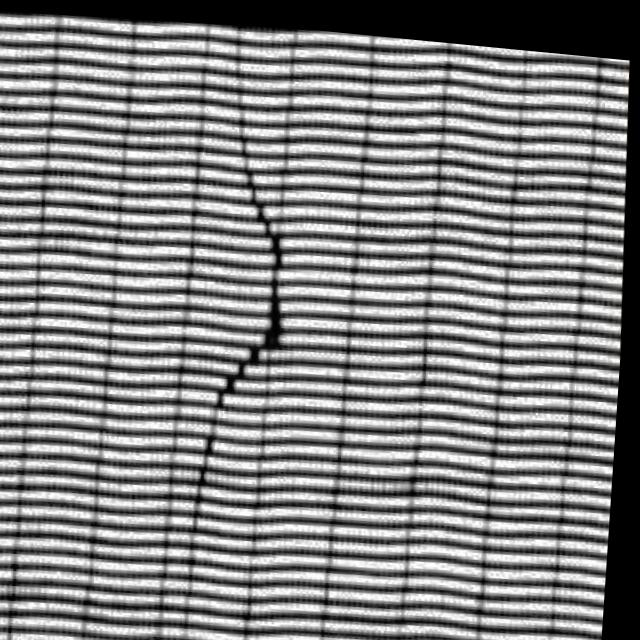Stitch: (166, 101, 322, 539)
